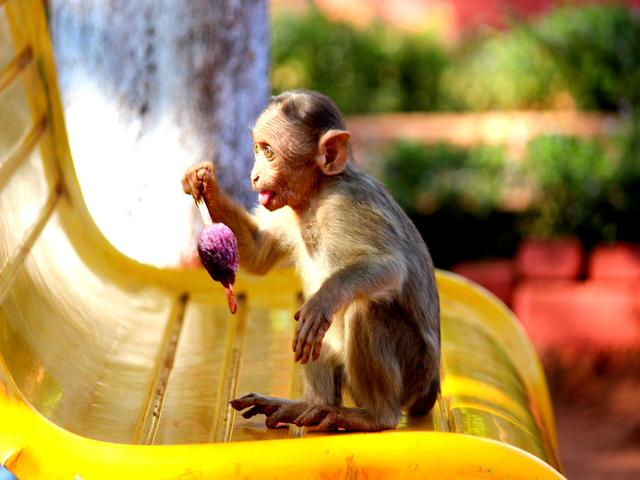monkey: (160, 62, 486, 464)
